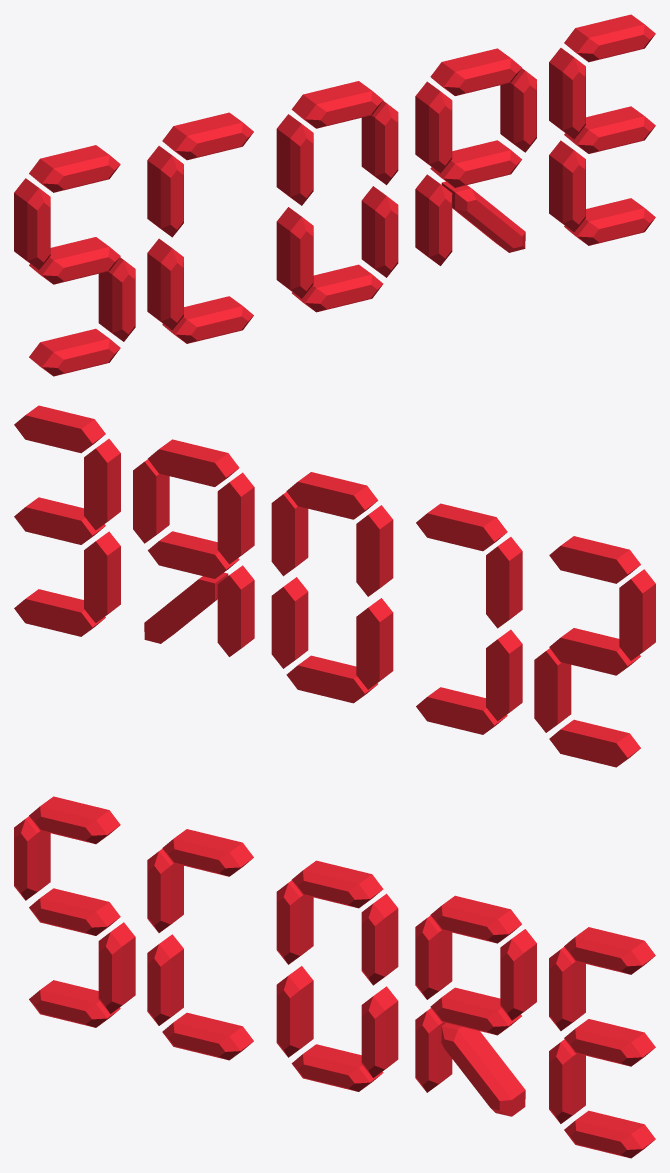
File: ScoreLetters.fbx
The picture shows the model from 3 angles, top to bottom: view 1: azimuth 30°, elevation 25°; view 2: azimuth 150°, elevation 25°; view 3: azimuth 330°, elevation 25°; orthographic projection.
Parts seen in each view (by area): view 1: SegmentLeftTopOn.002, Segment.019, Segment.030, SegmentLeftBottomOn.002, Segment.028, Segment.016, Segment.022, Segment.023, Segment.038, Segment.039, Segment.020, Segment.043 (+14 smaller); view 2: SegmentLeftTopOn.002, Segment.019, Segment.030, SegmentLeftBottomOn.002, Segment.028, Segment.016, Segment.022, Segment.023, Segment.038, Segment.039, Segment.020, Segment.043 (+14 smaller); view 3: Slash Segment.003, Segment.030, Segment.031, Segment.018, Segment.019, Segment.022, SegmentRightTopOn.002, Segment.040, Segment.027, Segment.017, SegmentTopOn.002, Segment.037 (+14 smaller).
Part boxes in pixels (box(x1,y1,x2,y2)): SegmentLeftTopOn.002: box(415, 81, 452, 173); Segment.019: box(276, 207, 313, 298); Segment.030: box(361, 186, 398, 277); SegmentLeftBottomOn.002: box(415, 174, 452, 265); Segment.028: box(276, 114, 313, 205); Segment.016: box(14, 178, 50, 269); Segment.022: box(147, 238, 183, 330); Segment.023: box(147, 146, 183, 237); Segment.038: box(549, 140, 585, 231); Segment.039: box(549, 48, 585, 139); Segment.020: box(29, 145, 120, 192); Segment.043: box(564, 14, 655, 62); SegmentLeftTopOn.002: box(217, 472, 254, 564); Segment.019: box(356, 598, 393, 689); Segment.030: box(271, 577, 308, 668); SegmentLeftBottomOn.002: box(217, 565, 254, 656); Segment.028: box(356, 505, 393, 596); Segment.016: box(619, 569, 655, 660); Segment.022: box(486, 629, 522, 721); Segment.023: box(486, 537, 522, 628); Segment.038: box(84, 531, 120, 622); Segment.039: box(84, 439, 120, 530); Segment.020: box(549, 536, 640, 583); Segment.043: box(14, 405, 105, 453); Slash Segment.003: box(441, 1023, 525, 1116); Segment.030: box(361, 986, 398, 1078); Segment.031: box(361, 893, 398, 985); Segment.018: box(98, 922, 135, 1013); Segment.019: box(276, 966, 313, 1057); Segment.022: box(147, 934, 183, 1025); SegmentRightTopOn.002: box(500, 929, 536, 1020); Segment.040: box(564, 1019, 655, 1066); Segment.027: box(162, 829, 253, 876); Segment.017: box(29, 888, 120, 935); SegmentTopOn.002: box(430, 895, 521, 943); Segment.037: box(564, 1110, 655, 1158).
Size of the model in its own units: 537 by 26.93 by 170.
